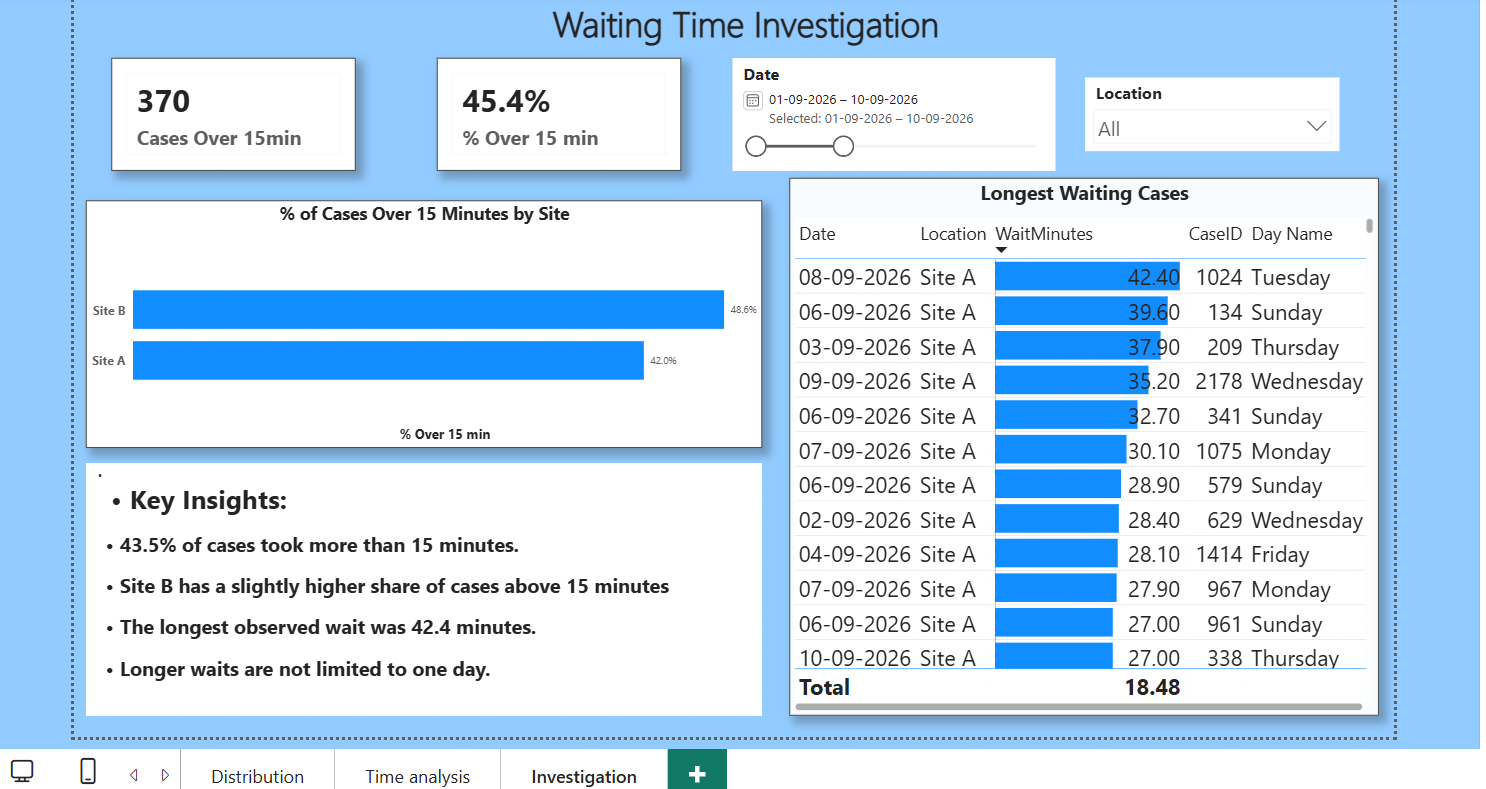

The dashboard page shown, as its layout file describes it:
{"tool":"powerbi","page":{"name":"Investigation ","canvas":[1600,900],"ordinal":2},"visuals":[{"type":"textbox","box":[403.8,0,822,76.6],"z":0},{"type":"cardVisual","fields":{"Data":["_Measures.% Over 15"]},"box":[441,76.6,296.1,136.7],"z":1},{"type":"cardVisual","fields":{"Data":["_Measures.Cases Over 15"]},"box":[45.6,76.6,296.1,136.7],"z":2},{"type":"clusteredBarChart","title":"% of Cases Over 15 Minutes by Site","fields":{"Category":["waits.Location"],"Y":["_Measures.% Over 15 min"]},"box":[14.5,248.5,820,300.2],"z":3},{"type":"tableEx","title":"Longest Waiting Cases","fields":{"Values":["waits.Date","waits.Location","Avg(waits.WaitMinutes)","waits.CaseID","waits.Day Name"]},"box":[867.6,221.6,714.4,652.2],"z":4},{"type":"slicer","fields":{"Values":["waits.Date"]},"box":[799.3,76.6,391.3,136.7],"z":5},{"type":"slicer","fields":{"Values":["waits.Location"]},"box":[1225.8,99.4,308.5,89],"z":6},{"type":"textbox","box":[14.5,567.3,820,306.4],"z":7}]}

Visuals, with their boxes on the page's 1600x900 design canvas (x1, y1, x2, y2). These are canvas units, not pixel positions in the 1486x789 screenshot, which may show the page scaled, cropped or inside an application window:
textbox: Rect(404, 0, 1226, 77)
cardVisual - _Measures.% Over 15: Rect(441, 77, 737, 213)
cardVisual - _Measures.Cases Over 15: Rect(46, 77, 342, 213)
"% of Cases Over 15 Minutes by Site" clusteredBarChart: Rect(14, 248, 834, 549)
"Longest Waiting Cases" tableEx: Rect(868, 222, 1582, 874)
slicer - waits.Date: Rect(799, 77, 1191, 213)
slicer - waits.Location: Rect(1226, 99, 1534, 188)
textbox: Rect(14, 567, 834, 874)
